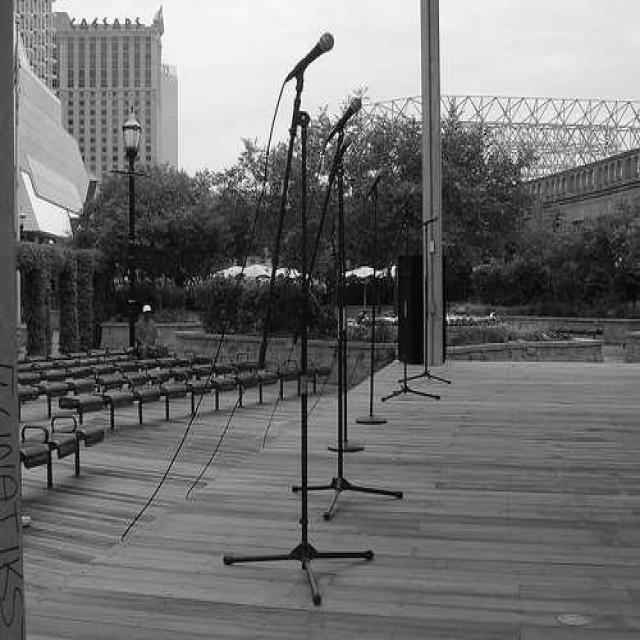microphone: (286, 33, 334, 83), (325, 97, 362, 145), (388, 185, 414, 235), (328, 132, 351, 168), (366, 172, 383, 202), (422, 215, 437, 228)
